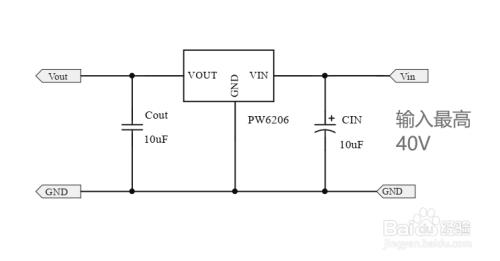cap1: (311, 122, 339, 136), (121, 121, 145, 134)
